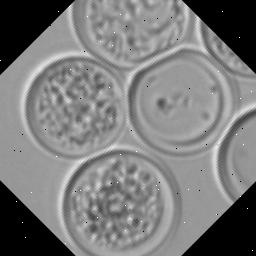picoshell: (57, 145, 180, 256), (124, 42, 240, 158), (19, 50, 127, 158), (66, 0, 194, 69), (211, 101, 256, 204), (194, 15, 256, 81), (69, 247, 86, 256)
